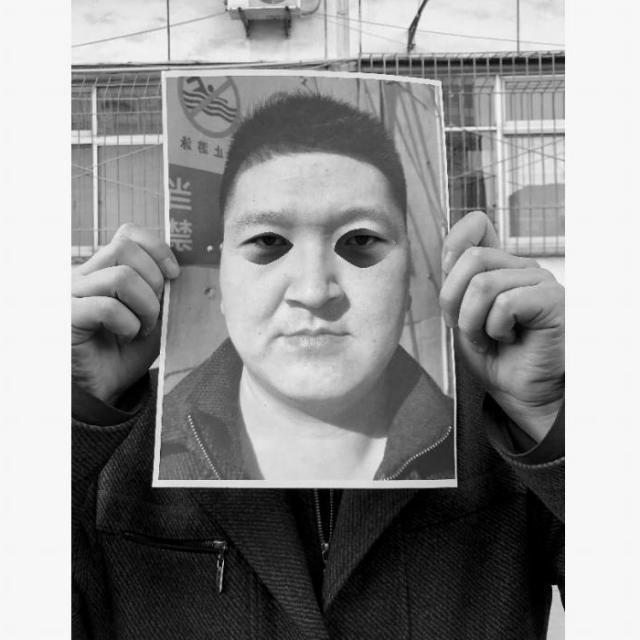fake: (143, 70, 458, 494)
